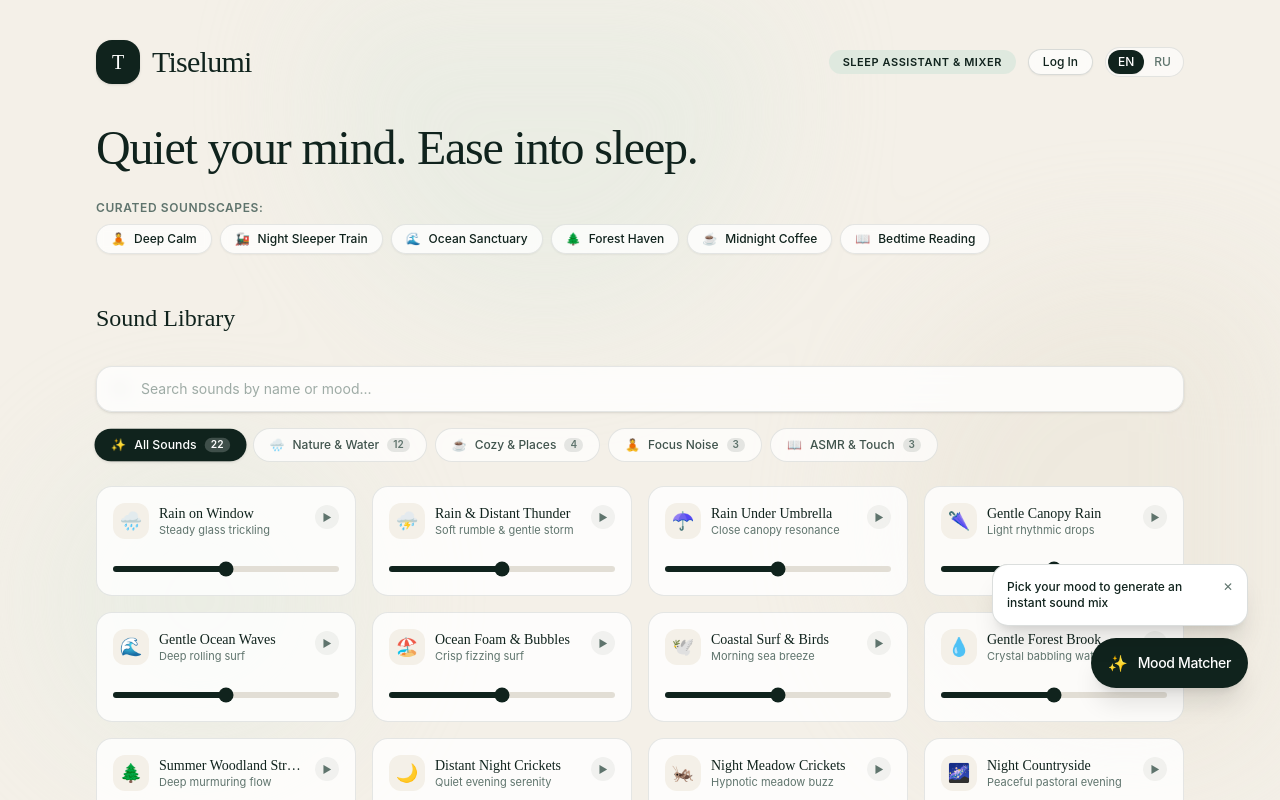
Test case: App › opens a separate login modal when clicking Log In in header
Click the button "Log In".
click(1060, 62)  # box left=1028, top=49, right=1093, bottom=75
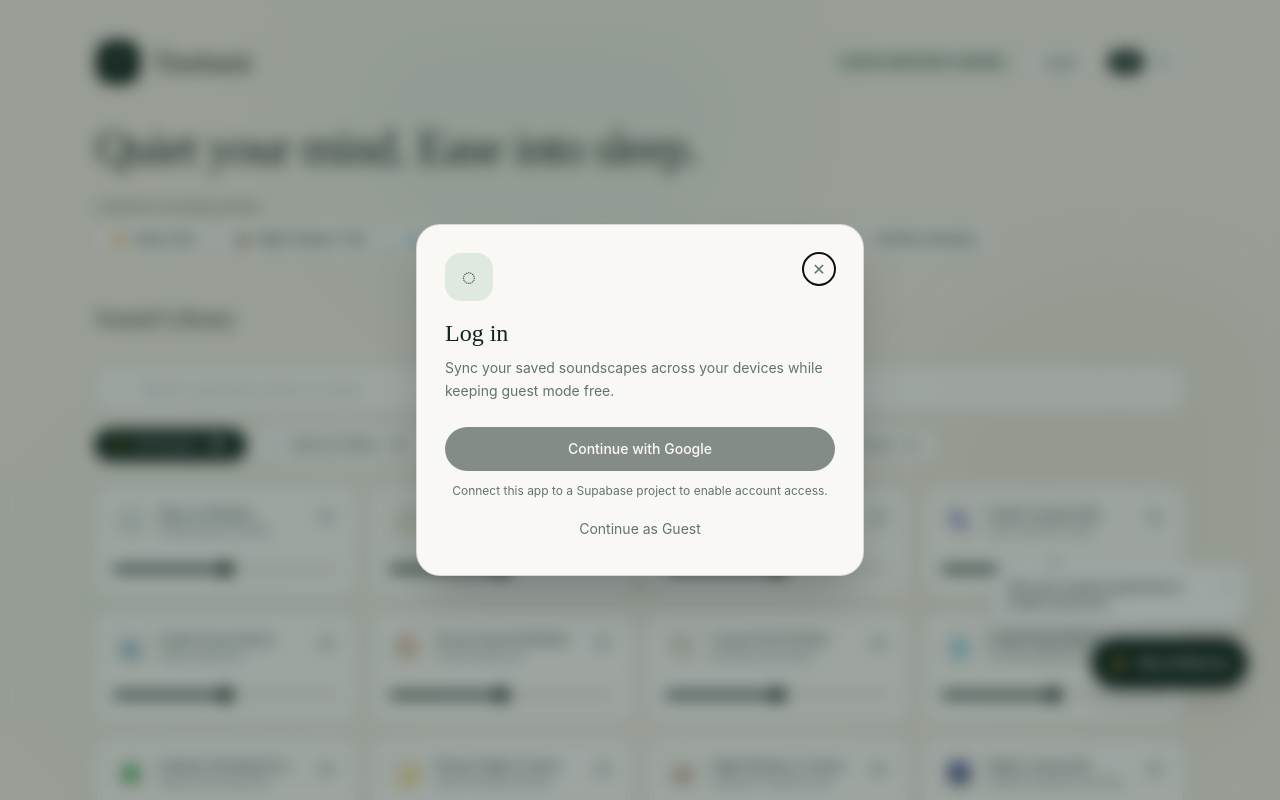
Expected: the dialog is shown
Expected: the heading "Log in" is shown, left=445, top=320, right=508, bottom=346
Expected: the button "Continue with Google" is shown, left=445, top=427, right=835, bottom=471
